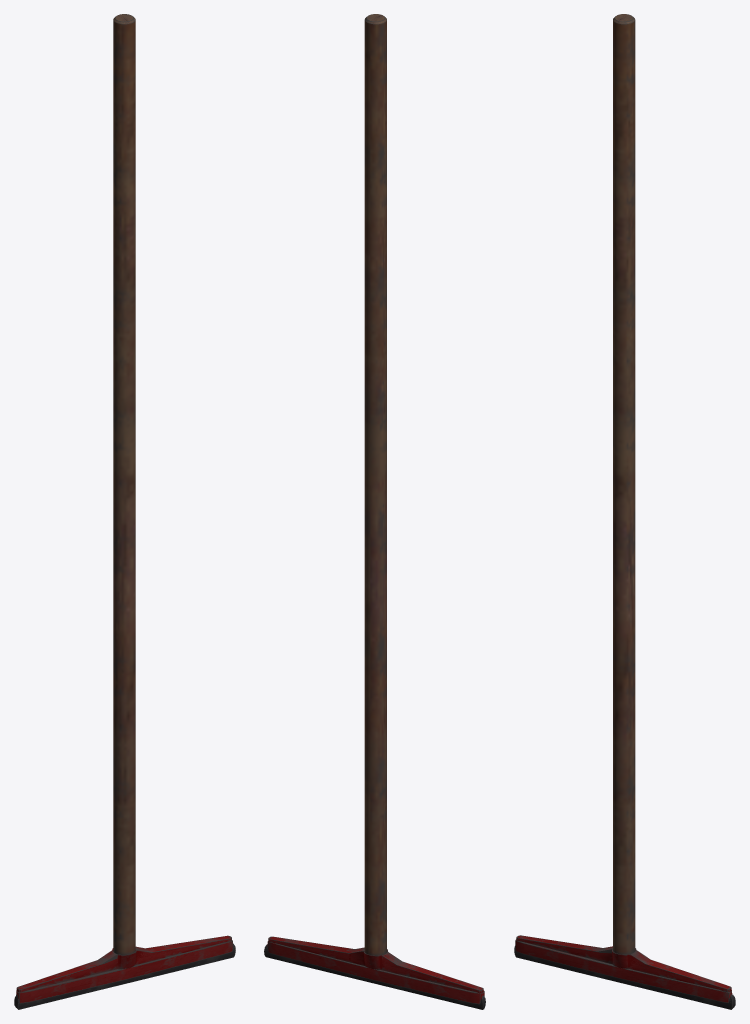
Rendered from Squeegee.fbx.
3 views of the same model, side by side, from view 1: azimuth 30°, elevation 25°; view 2: azimuth 150°, elevation 25°; view 3: azimuth 330°, elevation 25° (orthographic).
Visible parts, largest first — view 1: Rodo; view 2: Rodo; view 3: Rodo.
Boxes of the visible parts, <box> form: Rodo: <box>14,14,235,1009</box>; Rodo: <box>264,14,485,1009</box>; Rodo: <box>514,14,735,1009</box>.
Bounding box in the file's own units: 34.92 × 147 × 3.43.
